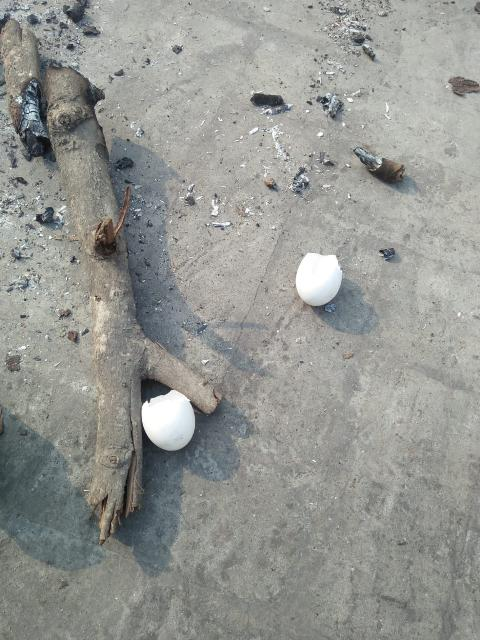Roto: (139, 389, 197, 451), (294, 251, 343, 307)
